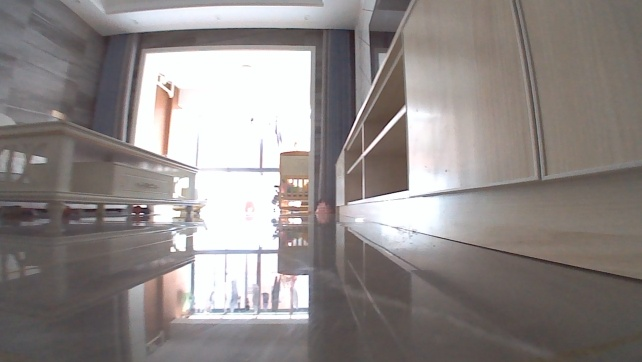TV_stand: (329, 0, 641, 282)
tea_table: (0, 115, 201, 227)
